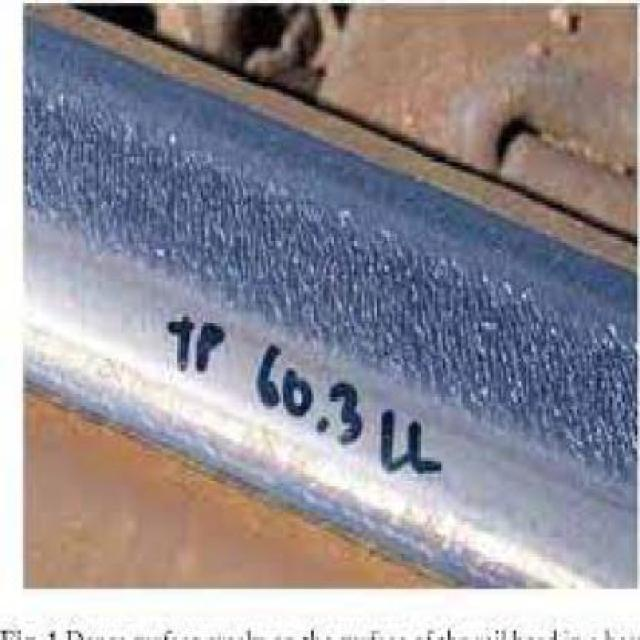non-defective: (23, 8, 637, 588)
